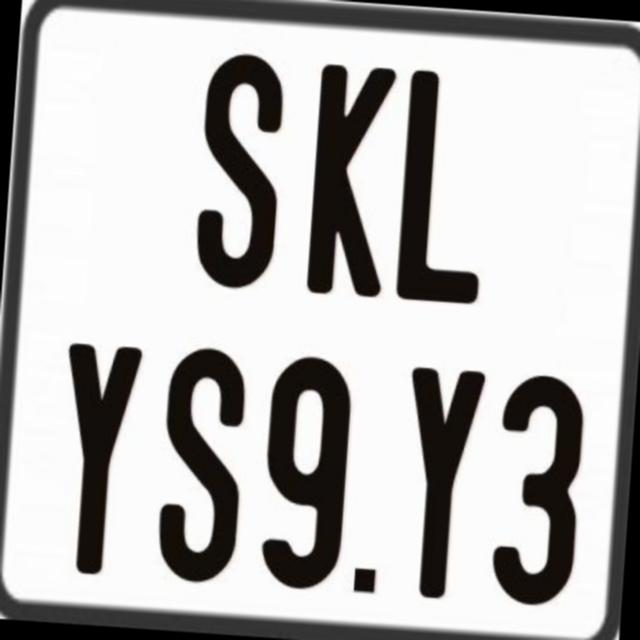3: (488, 370, 588, 605)
9: (253, 348, 351, 590)
K: (303, 60, 401, 299)
L: (392, 65, 498, 302)
S: (152, 342, 252, 586), (189, 48, 287, 288)
Y: (53, 338, 148, 578), (397, 365, 485, 600)
